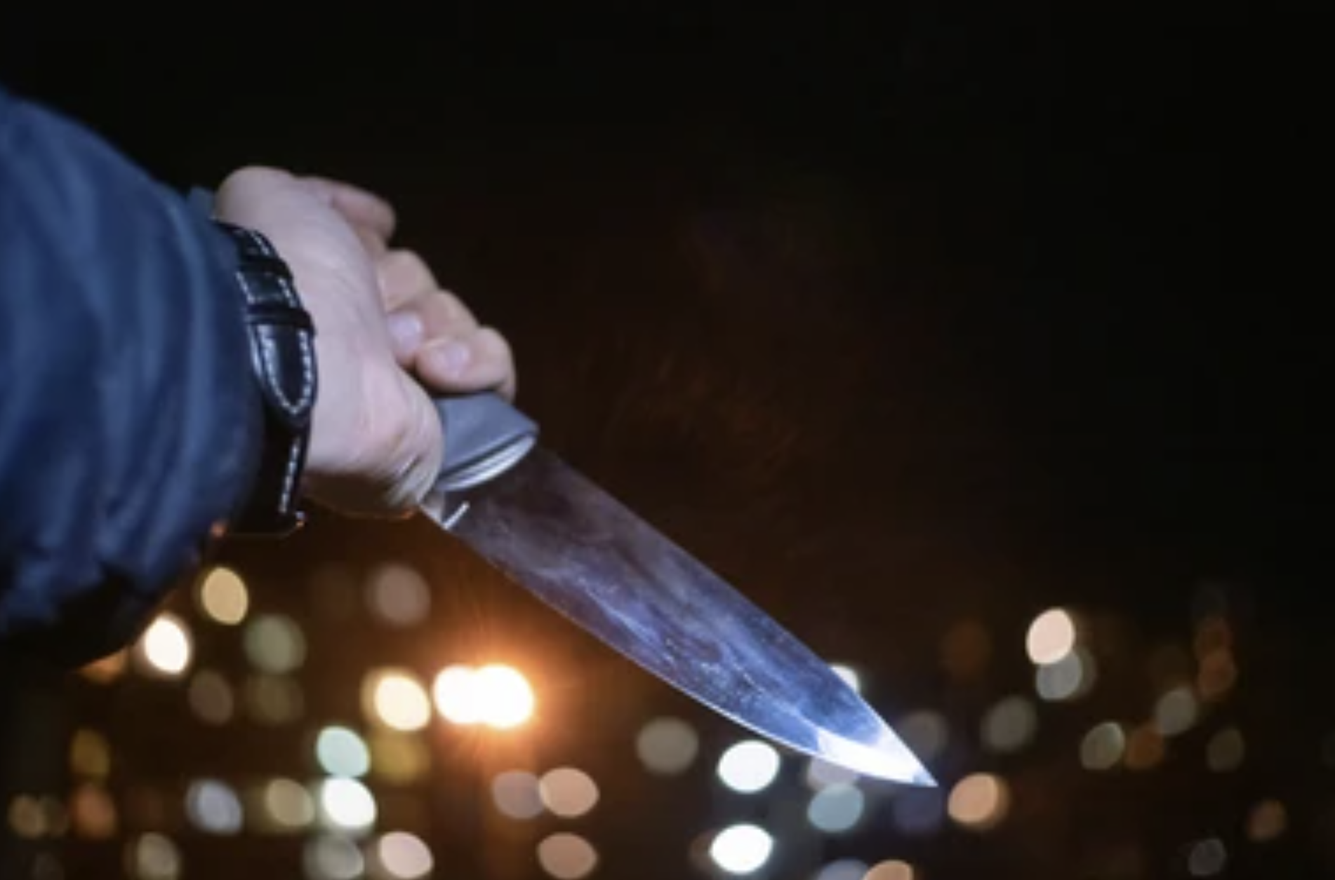knife_45.png: (352, 334, 1002, 824)
